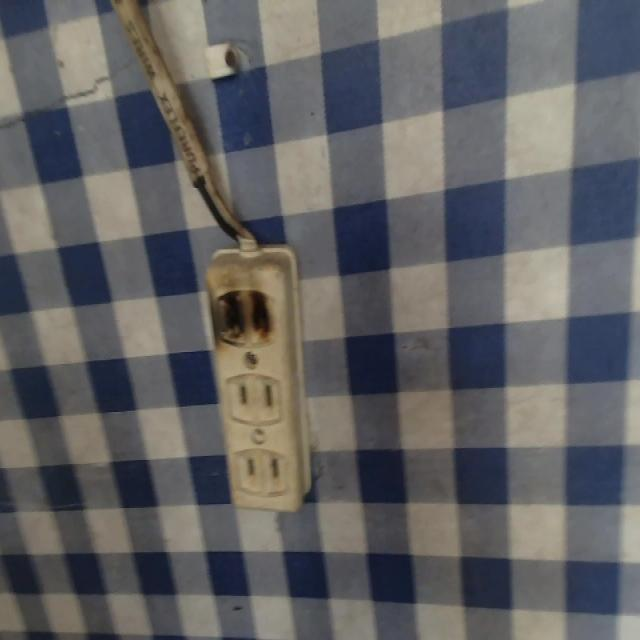-: (204, 277, 277, 355)
